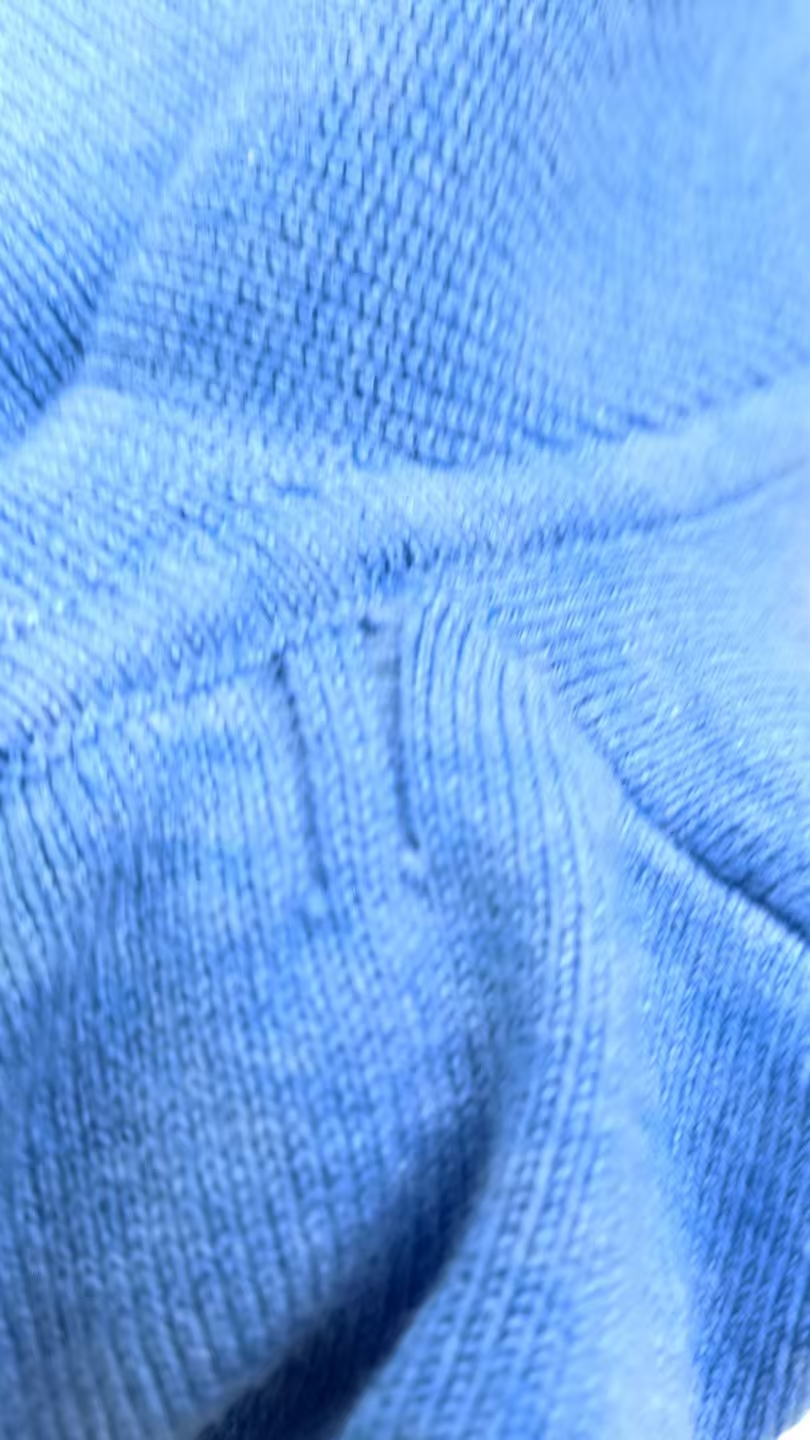missing_stitch_1: (362, 598, 432, 868), (268, 654, 326, 898)
